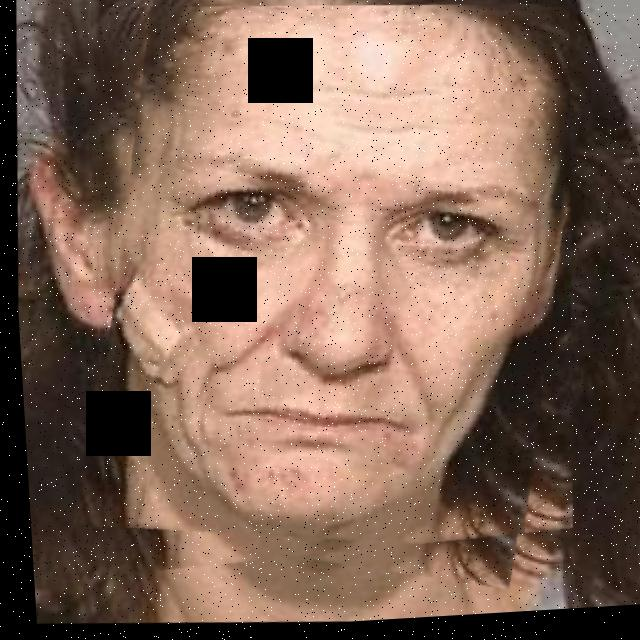sad: (60, 0, 596, 602)
